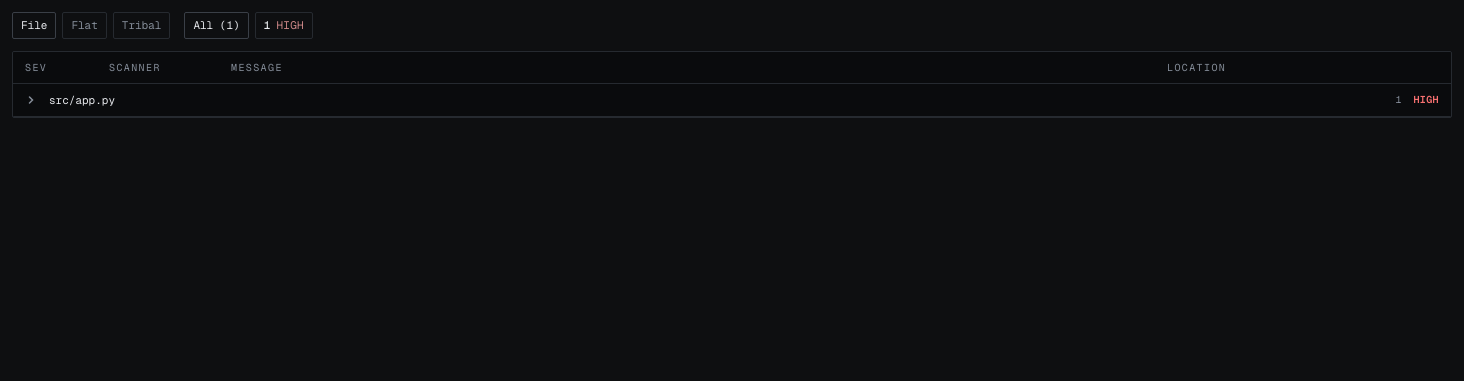
FindingsTable source context › renders uploaded snapshot context without interpreting source as HTML
The image size is (1464, 381).
Click the button "src/app.py 1 HIGH".
click(82, 100)  # box x1=13 y1=84 x2=1451 y2=117
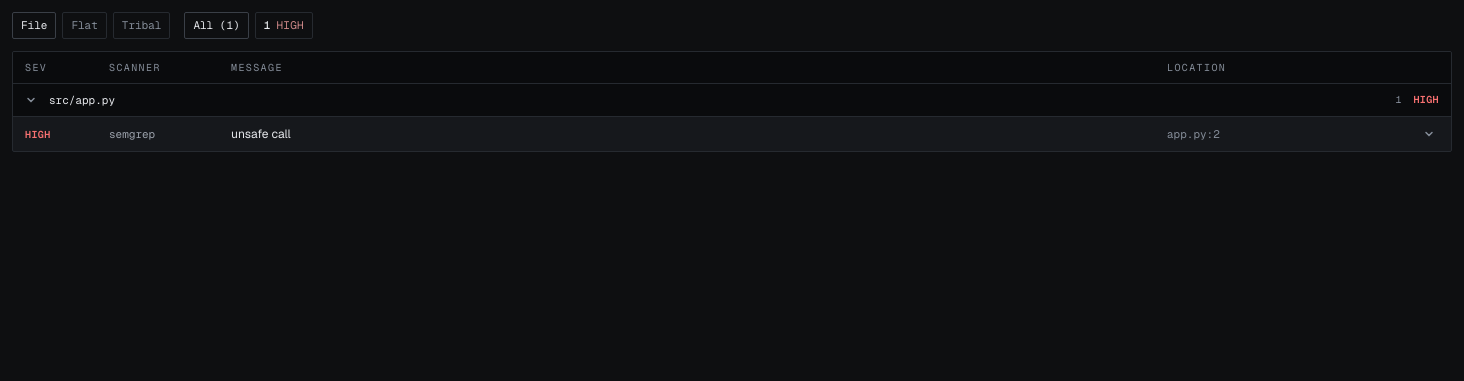
Click the button "HIGH semgrep unsafe call app.py:2".
click(132, 134)  # box x1=13 y1=117 x2=1451 y2=151
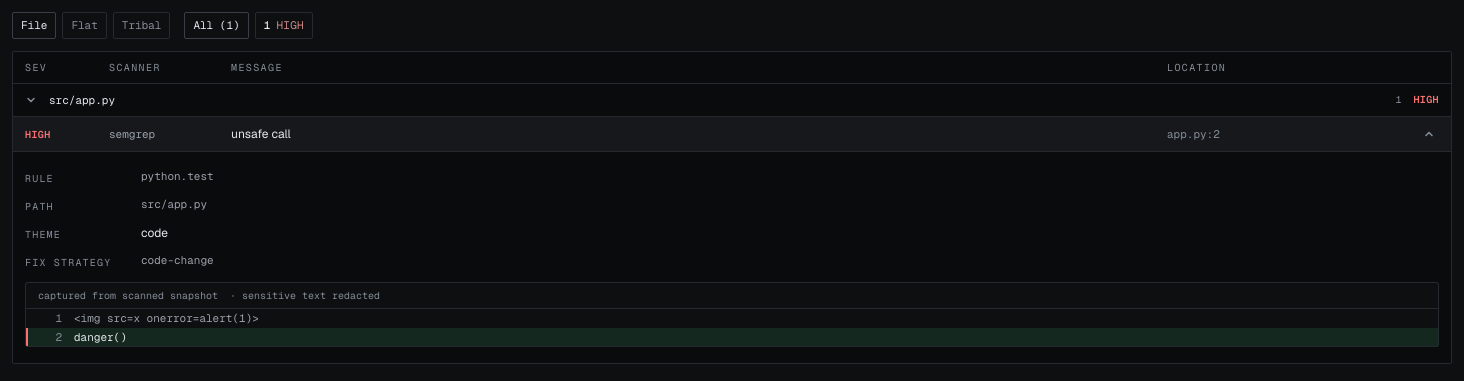
Check: the text "captured from scanned snapshot" is shown, box x1=38 y1=287 x2=218 y2=304
Check: the text "· sensitive text redacted" is shown, box x1=230 y1=287 x2=380 y2=304
Check: the text "<img src=x onerror=alert(1)>" is shown, box x1=74 y1=311 x2=259 y2=325
